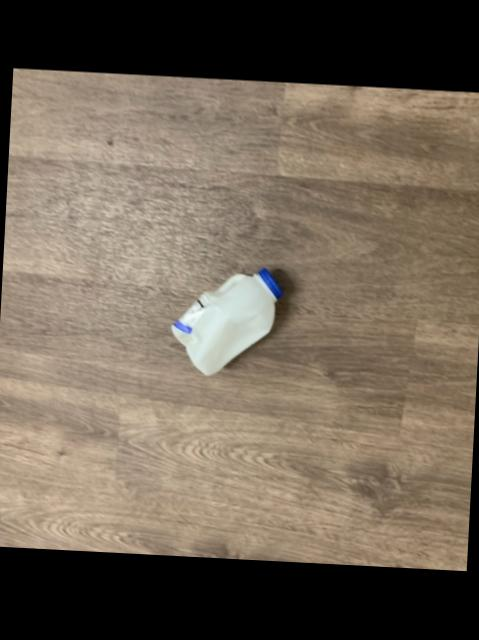plastic: (170, 267, 280, 374)
